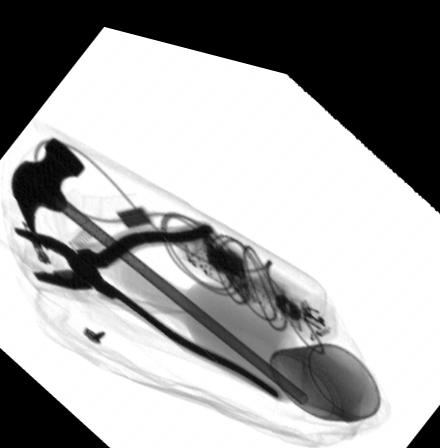Hammer: (11, 134, 308, 388)
Pliers: (13, 208, 278, 386)
